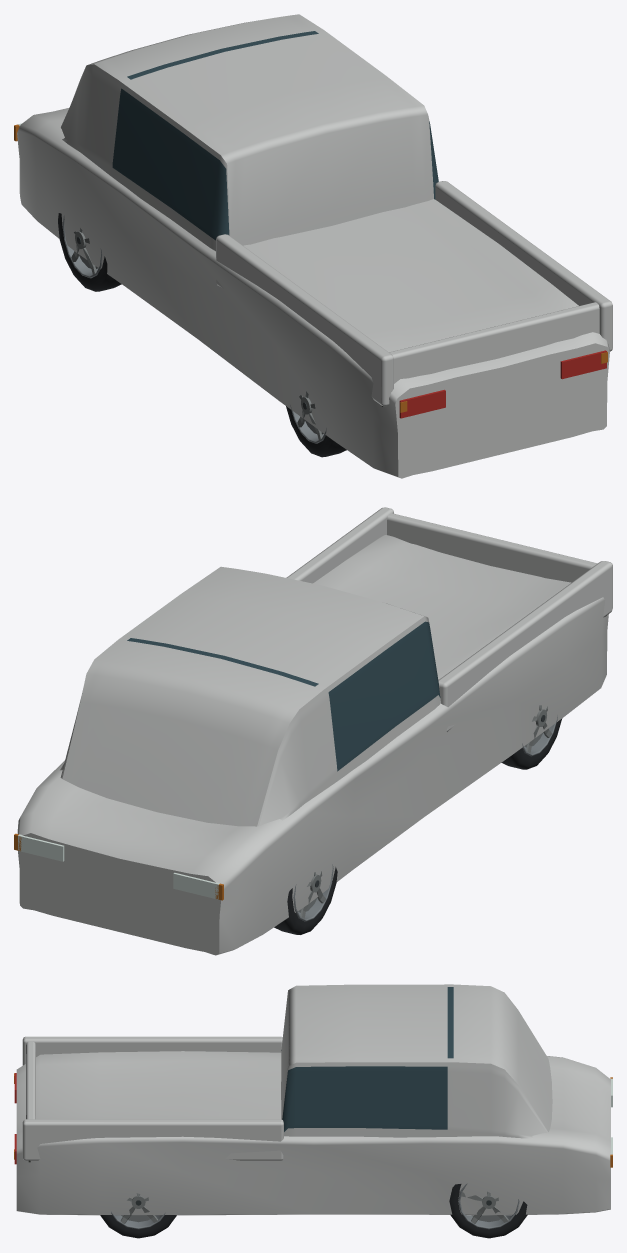
File: summit-utility-lod.glb
3 renders of one model, top to bottom at view 1: azimuth 30°, elevation 25°; view 2: azimuth 150°, elevation 25°; view 3: azimuth 270°, elevation 25°, orthographic. The views are drawn at different scales.
Parts seen in each view (by area): view 1: paint, glass, wheelSurface (×2), brake; view 2: paint, glass, wheelSurface (×2), head; view 3: paint, glass, wheelSurface (×2).
Boxes of the visible parts, <box> form: paint: <box>17,14,612,478</box>; glass: <box>112,31,438,240</box>; wheelSurface (×2): <box>58,213,346,457</box>; brake: <box>399,350,606,418</box>; paint: <box>17,507,612,955</box>; glass: <box>127,621,440,771</box>; wheelSurface (×2): <box>274,705,562,934</box>; head: <box>18,834,219,899</box>; paint: <box>16,984,610,1215</box>; glass: <box>281,987,453,1131</box>; wheelSurface (×2): <box>100,1183,527,1238</box>.
Size of the model in its own units: 1.97 by 1.8 by 5.5.
